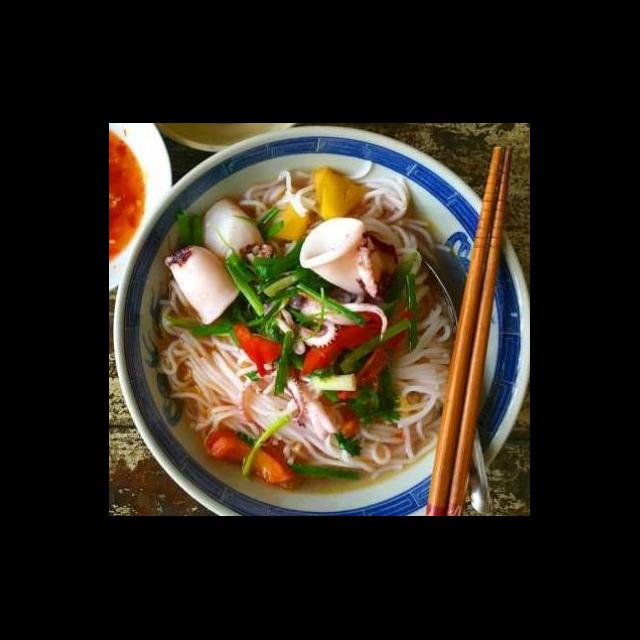bun: (154, 290, 378, 484), (232, 152, 442, 268), (368, 298, 470, 484)
muc: (256, 280, 392, 354), (296, 214, 392, 306), (238, 334, 316, 430), (160, 242, 246, 328), (196, 192, 270, 262)
